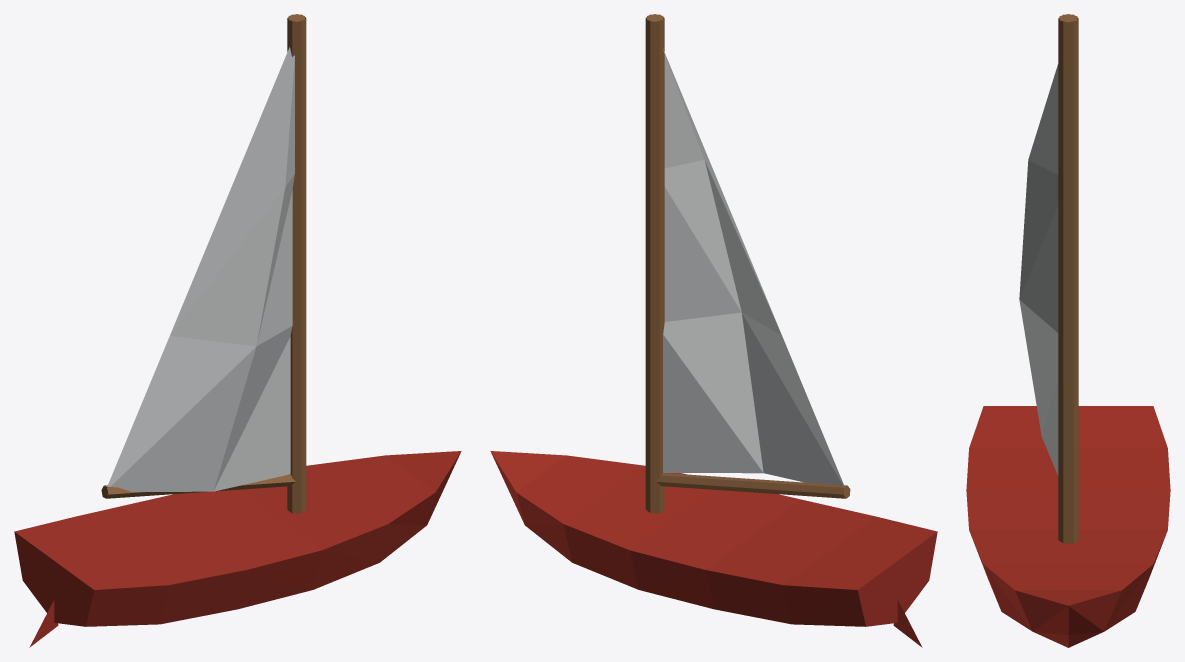
File: sailboat-3ee283.glb
The picture shows the model from 3 angles, left to right: view 1: azimuth 30°, elevation 25°; view 2: azimuth 150°, elevation 25°; view 3: azimuth 270°, elevation 25°; orthographic projection. The views are drawn at different scales.
Bounding box in the file's own units: 0.2372 × 0.3 × 0.0914.
